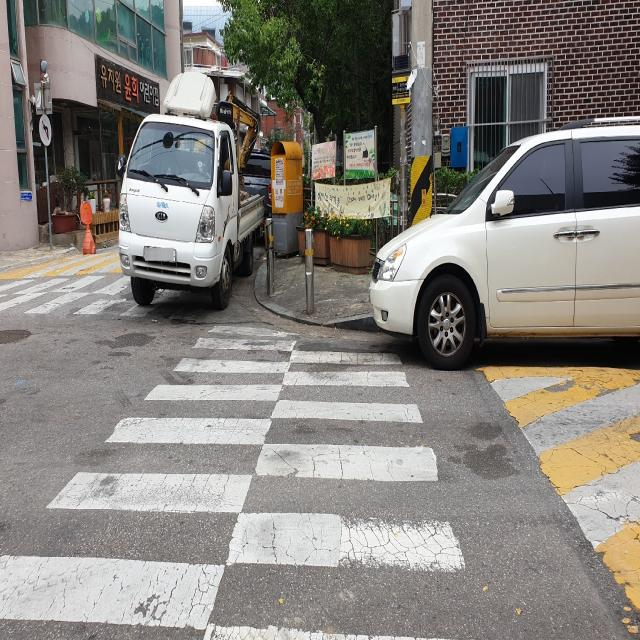횡단보도: (0, 324, 467, 640), (2, 277, 156, 320)
